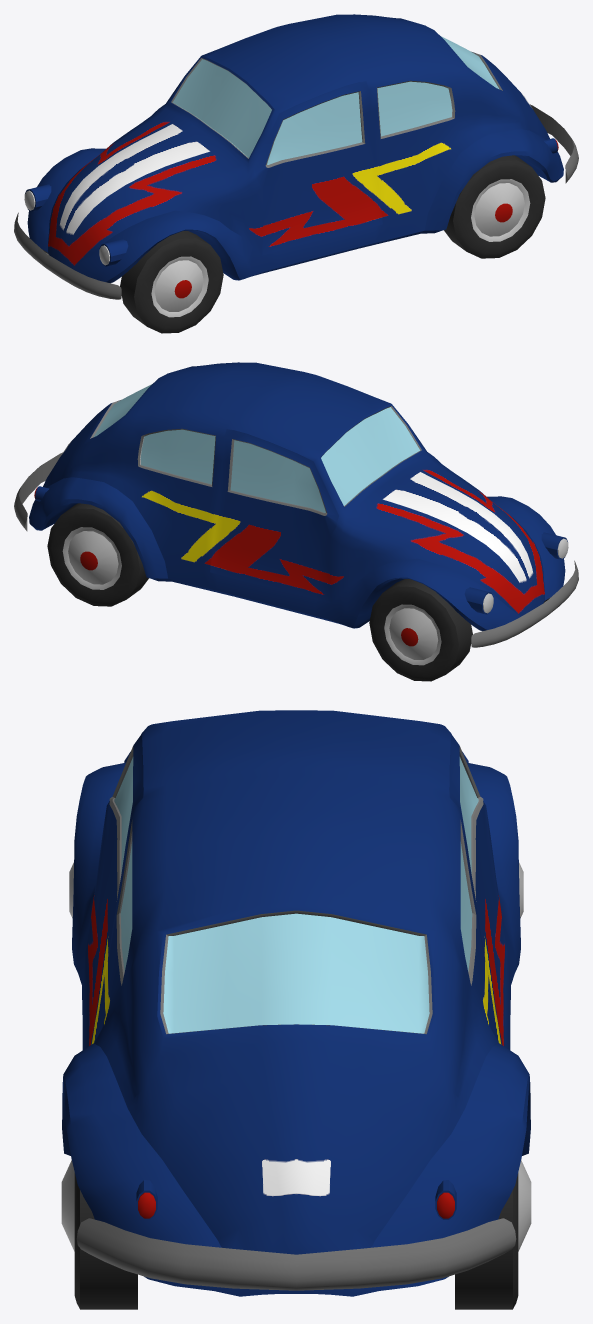
The model's file is car.beetle.fbx.
3 views of the same model, one above another, from view 1: azimuth 30°, elevation 25°; view 2: azimuth 150°, elevation 25°; view 3: azimuth 270°, elevation 25° (orthographic). The views are drawn at different scales.
Visible parts, largest first — view 1: Plane, Cylinder, Cylinder.002; view 2: Plane, Cylinder, Cylinder.002; view 3: Plane, Cylinder.002.
Boxes of the visible parts, x1=… form: Plane: x1=14, y1=14, x2=578, y2=299; Cylinder: x1=43, y1=231, x2=223, y2=333; Cylinder.002: x1=444, y1=155, x2=545, y2=258; Plane: x1=14, y1=362, x2=578, y2=647; Cylinder: x1=369, y1=579, x2=549, y2=681; Cylinder.002: x1=47, y1=503, x2=148, y2=606; Plane: x1=62, y1=710, x2=530, y2=1296; Cylinder.002: x1=61, y1=1160, x2=531, y2=1309.
Bounding box in the file's own units: 257 × 100 × 102.
